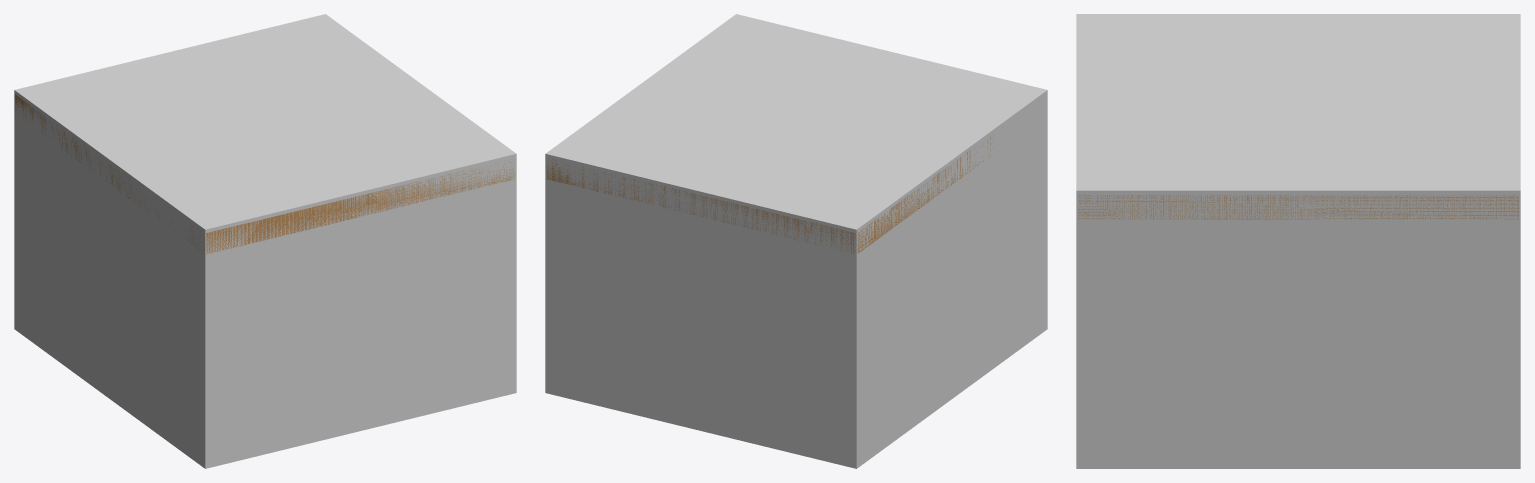
Rendered from cart-storage_commercial.glb.
3 views of the same model, side by side, from view 1: azimuth 30°, elevation 25°; view 2: azimuth 150°, elevation 25°; view 3: azimuth 270°, elevation 25° (orthographic). The views are drawn at different scales.
Parts seen in each view (by area): view 1: COL_cart-storage, MESH_ShelterRoof; view 2: COL_cart-storage, MESH_ShelterRoof; view 3: COL_cart-storage, MESH_ShelterRoof.
Boxes of the visible parts, x1,y1,x2,y2 form: COL_cart-storage: (14, 14, 516, 468); MESH_ShelterRoof: (15, 94, 514, 254); COL_cart-storage: (545, 14, 1047, 468); MESH_ShelterRoof: (546, 127, 1002, 253); COL_cart-storage: (1076, 14, 1520, 468); MESH_ShelterRoof: (1078, 195, 1518, 219).
Bounding box in the file's own units: 3.2 × 2.35 × 3.4.
